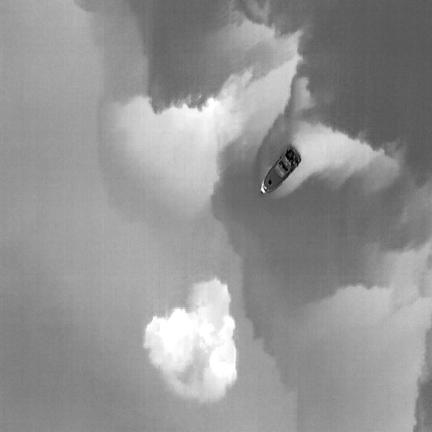flukeprints: (143, 278, 236, 402)
